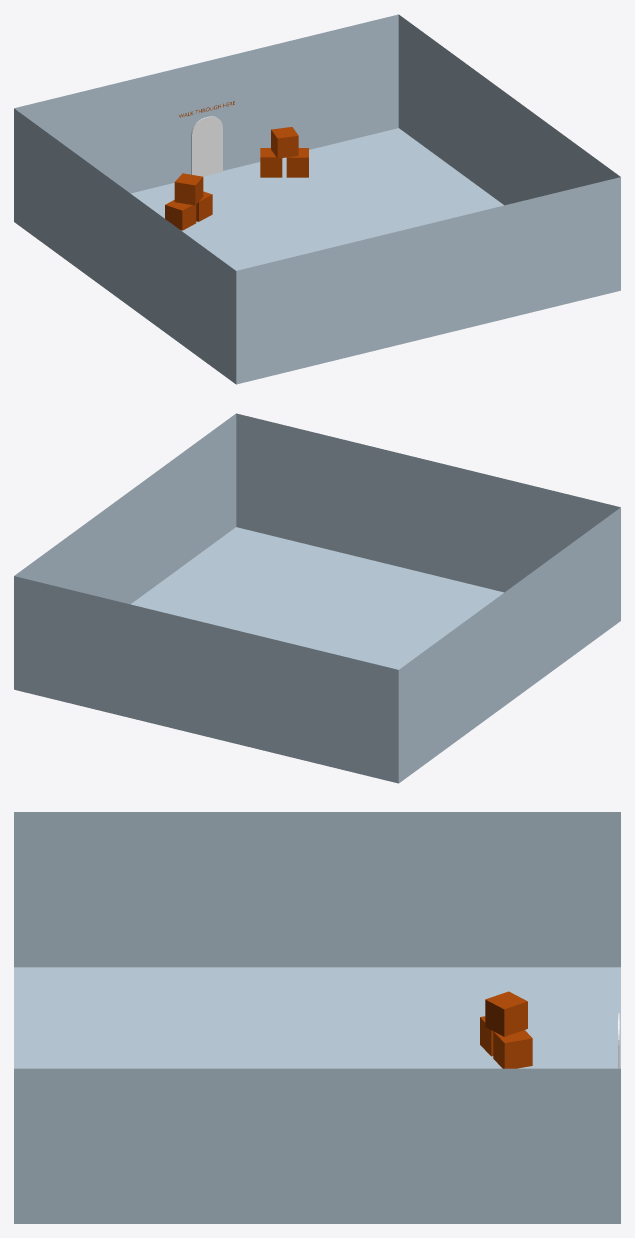
The model's file is testscene.gltf.
3 renders of one model, top to bottom at view 1: azimuth 30°, elevation 25°; view 2: azimuth 150°, elevation 25°; view 3: azimuth 270°, elevation 25°, orthographic. The views are drawn at different scales.
Visible parts, largest first — view 1: Room, questtrigger1, Cube002, Cube005, Cube001, Cube004, Cube003; view 2: Room; view 3: Room, Cube002, Cube.
Boxes of the visible parts, <box> form: Room: <box>14,14,620,384</box>; questtrigger1: <box>191,116,222,176</box>; Cube002: <box>174,173,203,205</box>; Cube005: <box>271,127,298,158</box>; Cube001: <box>165,200,196,230</box>; Cube004: <box>260,148,282,177</box>; Cube003: <box>286,148,308,177</box>; Room: <box>14,413,620,783</box>; Room: <box>14,812,620,1223</box>; Cube002: <box>485,991,527,1036</box>; Cube: <box>493,1030,532,1068</box>.
Bounding box in the file's own units: 40 × 11.29 × 40.
